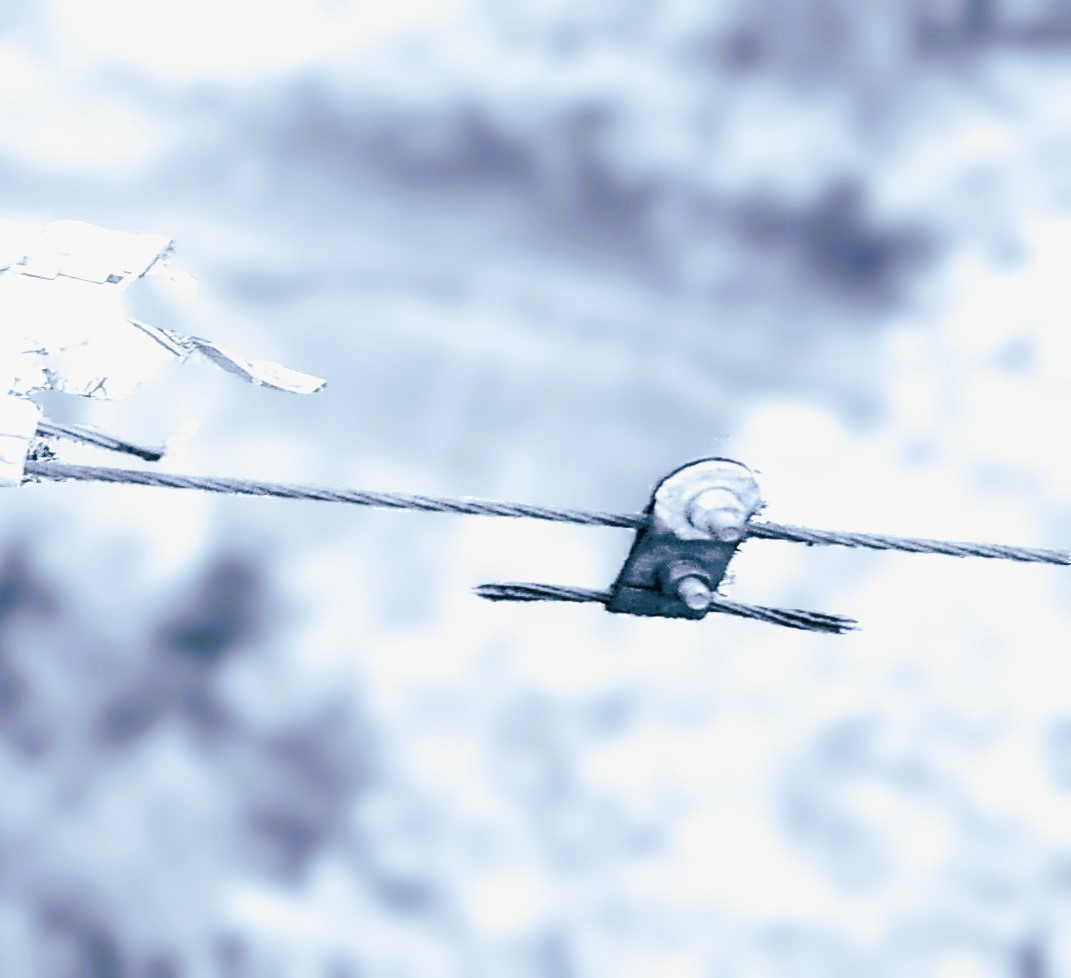Damage of shockproof hammer: (449, 440, 880, 649)
